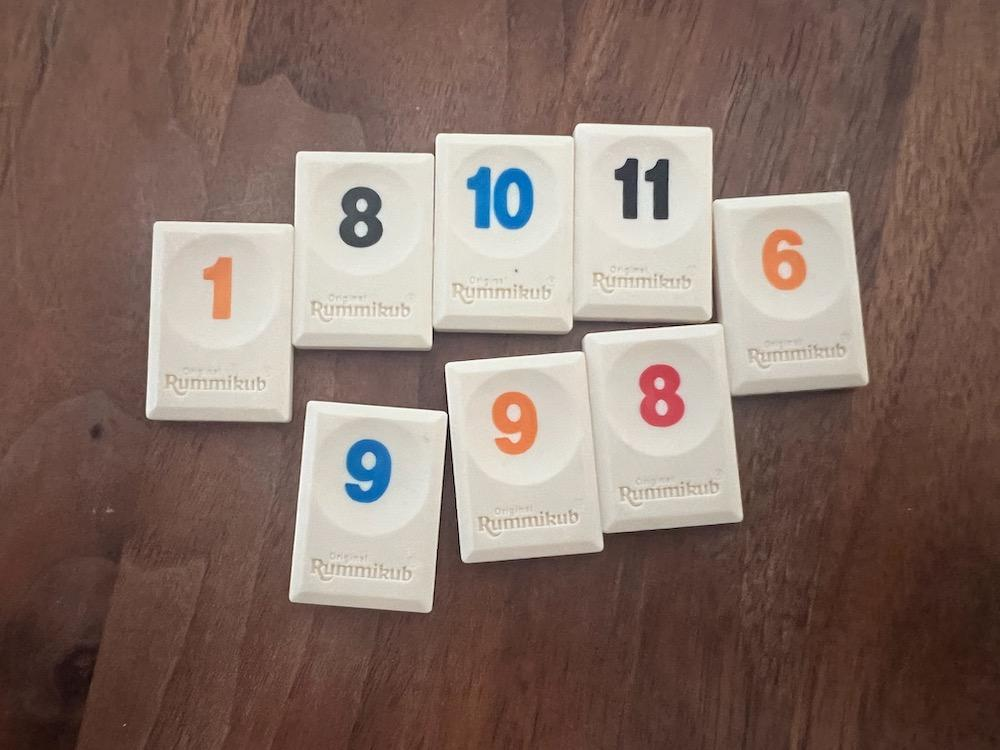black_11: (574, 123, 713, 322)
black_8: (293, 152, 434, 350)
blue_10: (434, 133, 574, 334)
blue_9: (289, 402, 447, 613)
orange_1: (147, 223, 293, 422)
orange_6: (713, 191, 869, 395)
orange_9: (445, 352, 604, 562)
red_8: (584, 324, 742, 533)
